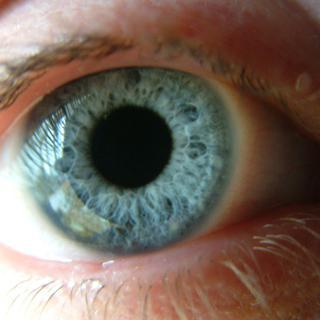iris: (17, 39, 234, 256)
